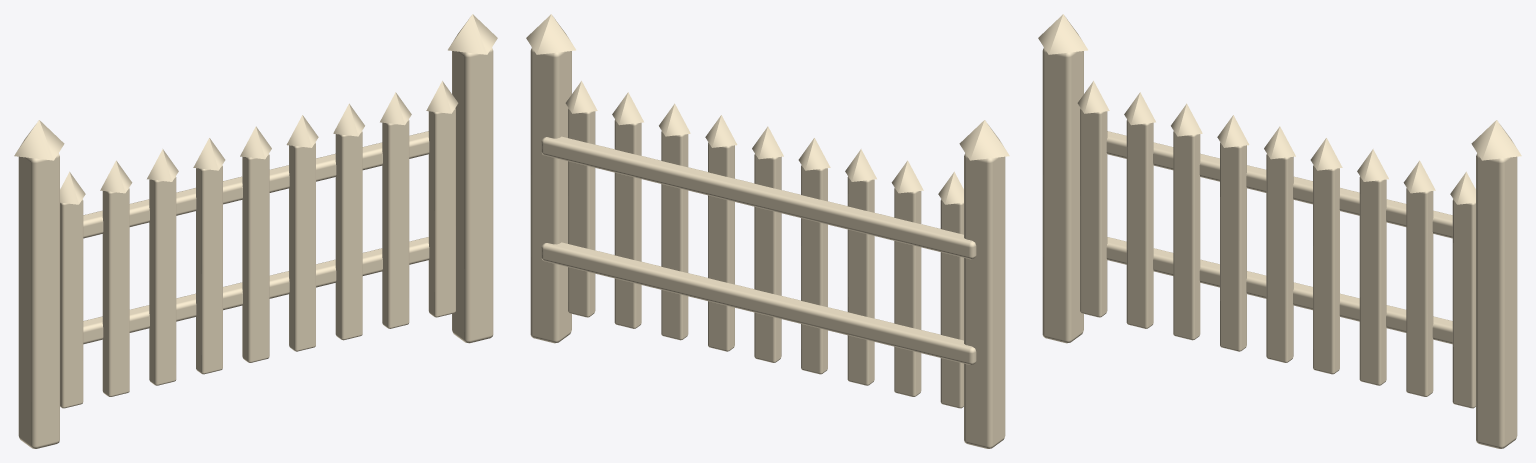
The model's file is almanac-gardens-picket-fence-5fee4ebf__22009.glb.
3 views of the same model, side by side, from view 1: azimuth 30°, elevation 25°; view 2: azimuth 150°, elevation 25°; view 3: azimuth 330°, elevation 25° (orthographic).
Parts seen in each view (by area): view 1: picket-fence-ivory; view 2: picket-fence-ivory; view 3: picket-fence-ivory.
Part boxes in pixels (x1,y1,x2,y2): picket-fence-ivory: [14, 14, 497, 448]; picket-fence-ivory: [526, 14, 1009, 448]; picket-fence-ivory: [1038, 14, 1521, 448].
Size of the model in its own units: 2.01 by 1.28 by 0.21.
